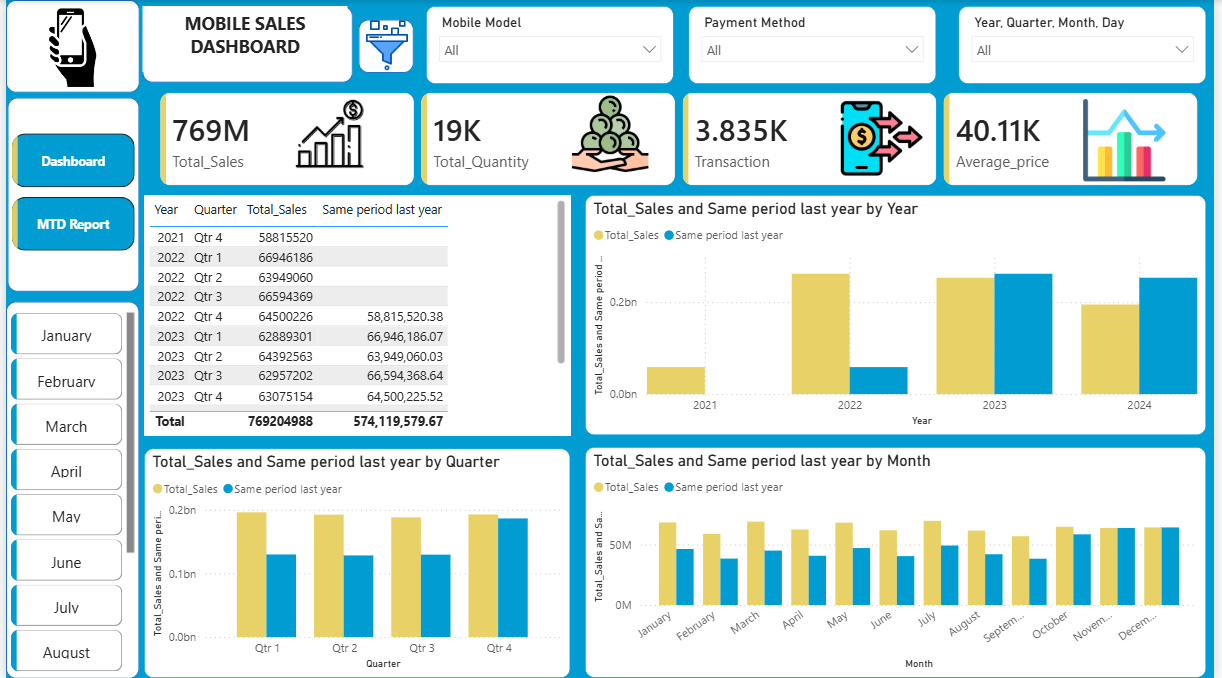

What the dashboard file says about the page in this screenshot:
{"tool":"powerbi","page":{"name":"Same Period Last Year","canvas":[1280,720],"ordinal":2},"visuals":[{"type":"shape","box":[0,0,141.7,98.3],"z":0},{"type":"shape","box":[1.9,103.9,139.8,206],"z":1000},{"type":"cardVisual","fields":{"Data":["Sales_data.Total_Sales","Sales_data.Total_Quantity","CountNonNull(Sales_data.Transaction ID)","Sales_data.Average_price"]},"box":[145.7,81.4,1134.3,132.9],"z":2000},{"type":"image","box":[275.9,98.3,136.1,86.9],"z":3000},{"type":"image","box":[572.6,98.3,136.1,86.9],"z":4000},{"type":"image","box":[859.8,103.9,136.1,86.9],"z":5000},{"type":"image","box":[1118.6,104.3,135.7,87.1],"z":6000},{"type":"slicer","fields":{"Values":["Sales_data.Mobile Model"]},"box":[445.7,7.1,262.9,82.9],"z":7000},{"type":"slicer","fields":{"Values":["Custom_Calendar.Date.Variation.Date Hierarchy.Year","Custom_Calendar.Date.Variation.Date Hierarchy.Quarter","Custom_Calendar.Date.Variation.Date Hierarchy.Month","Custom_Calendar.Date.Variation.Date Hierarchy.Day"]},"box":[1010,7.1,262.9,82.9],"z":8000},{"type":"slicer","fields":{"Values":["Sales_data.Payment Method"]},"box":[724.3,7.1,262.9,82.9],"z":9000},{"type":"shape","box":[374.2,20.8,58.6,56.7],"z":10000},{"type":"image","box":[362.8,20.8,83.2,54.8],"z":11000},{"type":"shape","box":[145.5,5.7,223,81.3],"z":12000},{"type":"textbox","box":[145.5,5.7,217.3,69.9],"z":13000},{"type":"image","box":[35.7,7.1,71.4,90],"z":14000},{"type":"shape","box":[0,320,141.4,400],"z":15000},{"type":"advancedSlicerVisual","fields":{"Values":["Custom_Calendar.Date.Variation.Date Hierarchy.Month"]},"box":[0,325.7,141.4,394.3],"z":16000},{"type":"tableEx","fields":{"Values":["Custom_Calendar.Date.Variation.Date Hierarchy.Year","Custom_Calendar.Date.Variation.Date Hierarchy.Quarter","Sales_data.Total_Sales","Custom_Calendar.Same period last year"]},"box":[146.3,206.8,451.7,254.5],"z":17000},{"type":"clusteredColumnChart","fields":{"Category":["Custom_Calendar.Date.Variation.Date Hierarchy.Year","Custom_Calendar.Date.Variation.Date Hierarchy.Quarter"],"Y":["Sales_data.Total_Sales","Custom_Calendar.Same period last year"]},"box":[614,206.8,658.5,254.5],"z":18000},{"type":"clusteredColumnChart","fields":{"Y":["Sales_data.Total_Sales","Custom_Calendar.Same period last year"],"Category":["Custom_Calendar.Date.Variation.Date Hierarchy.Year","Custom_Calendar.Date.Variation.Date Hierarchy.Quarter","Custom_Calendar.Date.Variation.Date Hierarchy.Month","Custom_Calendar.Date.Variation.Date Hierarchy.Day"]},"box":[614,474,658.5,245],"z":19000},{"type":"clusteredColumnChart","fields":{"Category":["Custom_Calendar.Date.Variation.Date Hierarchy.Year","Custom_Calendar.Date.Variation.Date Hierarchy.Quarter"],"Y":["Sales_data.Total_Sales","Custom_Calendar.Same period last year"]},"box":[146.3,475.6,451.7,243.4],"z":20000},{"type":"pageNavigator","box":[6.4,141.6,130.4,124.1],"z":20001}]}

Visuals, with their boxes in screenshot pixels (x1, y1, x2, y2), scaled from the page's 1280x720 canvas onto the 1222x678 screenshot:
shape: Rect(0, 0, 135, 93)
shape: Rect(2, 98, 135, 292)
cardVisual - Sales_data.Total_Sales x Sales_data.Total_Quantity: Rect(139, 77, 1221, 202)
image: Rect(263, 93, 393, 174)
image: Rect(547, 93, 677, 174)
image: Rect(821, 98, 951, 180)
image: Rect(1068, 98, 1197, 180)
slicer - Sales_data.Mobile Model: Rect(426, 7, 676, 85)
slicer - Custom_Calendar.Date.Variation.Date Hierarchy.Year x Custom_Calendar.Date.Variation.Date Hierarchy.Quarter: Rect(964, 7, 1215, 85)
slicer - Sales_data.Payment Method: Rect(691, 7, 942, 85)
shape: Rect(357, 20, 413, 73)
image: Rect(346, 20, 426, 71)
shape: Rect(139, 5, 352, 82)
textbox: Rect(139, 5, 346, 71)
image: Rect(34, 7, 102, 91)
shape: Rect(0, 301, 135, 677)
advancedSlicerVisual - Custom_Calendar.Date.Variation.Date Hierarchy.Month: Rect(0, 307, 135, 677)
tableEx - Custom_Calendar.Date.Variation.Date Hierarchy.Year x Custom_Calendar.Date.Variation.Date Hierarchy.Quarter: Rect(140, 195, 571, 434)
clusteredColumnChart - Custom_Calendar.Date.Variation.Date Hierarchy.Year x Custom_Calendar.Date.Variation.Date Hierarchy.Quarter: Rect(586, 195, 1215, 434)
clusteredColumnChart - Sales_data.Total_Sales x Custom_Calendar.Same period last year: Rect(586, 446, 1215, 677)
clusteredColumnChart - Custom_Calendar.Date.Variation.Date Hierarchy.Year x Custom_Calendar.Date.Variation.Date Hierarchy.Quarter: Rect(140, 448, 571, 677)
pageNavigator: Rect(6, 133, 131, 250)
